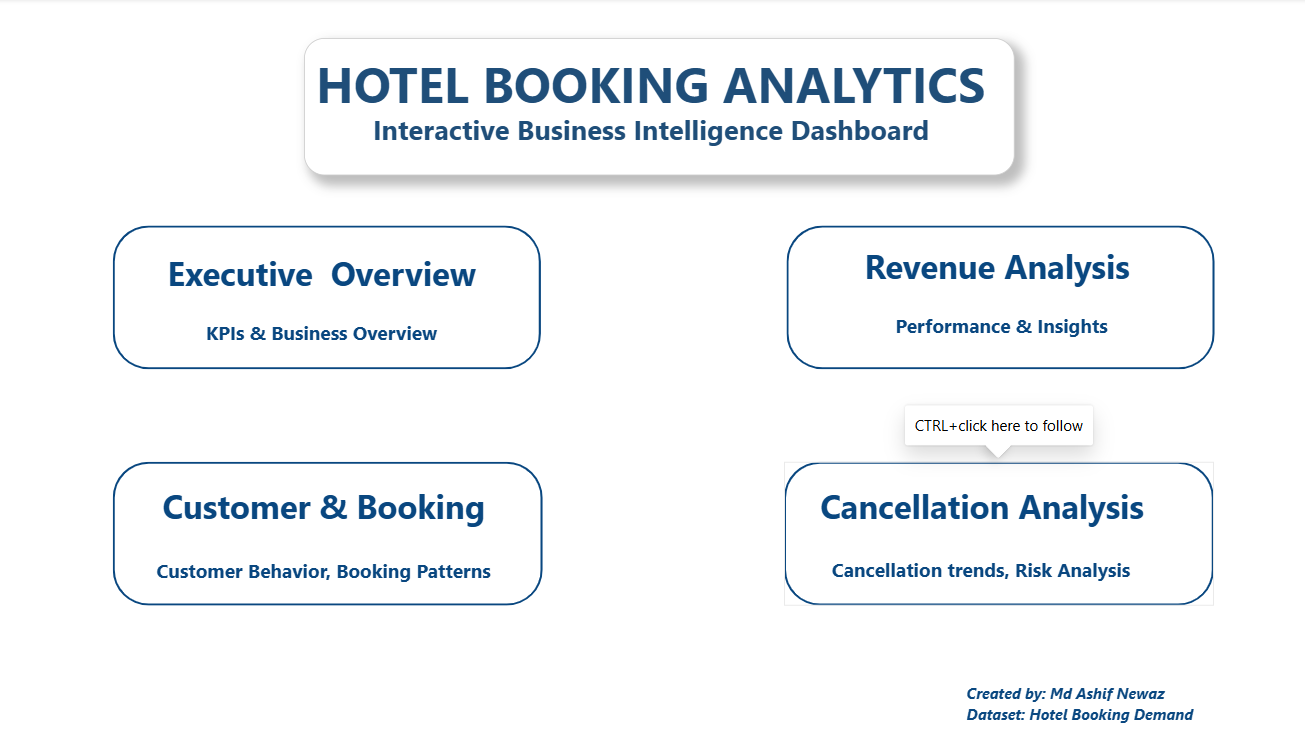

This screenshot's page, from the dashboard's own definition file:
{"tool":"powerbi","page":{"name":"Home Page","canvas":[1280,720],"ordinal":0},"visuals":[{"type":"textbox","box":[298.2,38.5,695.3,134],"z":0},{"type":"textbox","box":[776.5,470.8,370.3,53.6],"z":0,"group":"g4"},{"type":"textbox","box":[333.4,105.5,608.2,53.6],"z":1000},{"type":"textbox","box":[144.6,471.1,346.8,53.6],"z":1000,"group":"g3"},{"type":"textbox","box":[775,542.7,373.3,37.6],"z":1000,"group":"g4"},{"type":"group","id":"g1","title":"Group 3","box":[111.6,222.8,418.8,140.7],"z":2000},{"type":"textbox","box":[143.4,242.9,345.1,63.7],"z":2000,"group":"g1"},{"type":"actionButton","box":[768.3,454,420.5,140.7],"z":2000,"group":"g4"},{"type":"textbox","box":[131.3,543.1,373.3,37.6],"z":2000,"group":"g3"},{"type":"group","id":"g2","title":"Group 4","box":[770,222.8,418.8,140.7],"z":3000},{"type":"textbox","box":[143.4,309.9,345.1,36.9],"z":3000,"group":"g1"},{"type":"actionButton","box":[111.6,222.8,418.8,140.7],"z":4000,"group":"g1"},{"type":"textbox","box":[808.3,236.2,345.1,63.7],"z":4000,"group":"g2"},{"type":"group","id":"g3","title":"Group 1","box":[111.6,454,420.5,140.7],"z":4000},{"type":"actionButton","box":[111.6,454,420.5,140.7],"z":5000,"group":"g3"},{"type":"group","id":"g4","title":"Group 2","box":[768.3,454,420.5,140.7],"z":5000},{"type":"textbox","box":[808.3,303.2,345.1,43.6],"z":6000,"group":"g2"},{"type":"textbox","box":[941.6,665.1,338.4,55.3],"z":6000},{"type":"actionButton","box":[770,222.8,418.8,140.7],"z":7000,"group":"g2"}]}

Visuals, with their boxes in screenshot pixels (x1, y1, x2, y2), scaled from the page's 1280x720 canvas onto the 1305x732 screenshot:
textbox: [x1=304, y1=39, x2=1013, y2=175]
textbox: [x1=792, y1=479, x2=1169, y2=533]
textbox: [x1=340, y1=107, x2=960, y2=162]
textbox: [x1=147, y1=479, x2=501, y2=533]
textbox: [x1=790, y1=552, x2=1171, y2=590]
"Group 3" group: [x1=114, y1=227, x2=541, y2=370]
textbox: [x1=146, y1=247, x2=498, y2=312]
actionButton: [x1=783, y1=462, x2=1212, y2=605]
textbox: [x1=134, y1=552, x2=514, y2=590]
"Group 4" group: [x1=785, y1=227, x2=1212, y2=370]
textbox: [x1=146, y1=315, x2=498, y2=353]
actionButton: [x1=114, y1=227, x2=541, y2=370]
textbox: [x1=824, y1=240, x2=1176, y2=305]
"Group 1" group: [x1=114, y1=462, x2=542, y2=605]
actionButton: [x1=114, y1=462, x2=542, y2=605]
"Group 2" group: [x1=783, y1=462, x2=1212, y2=605]
textbox: [x1=824, y1=308, x2=1176, y2=353]
textbox: [x1=960, y1=676, x2=1304, y2=731]
actionButton: [x1=785, y1=227, x2=1212, y2=370]
